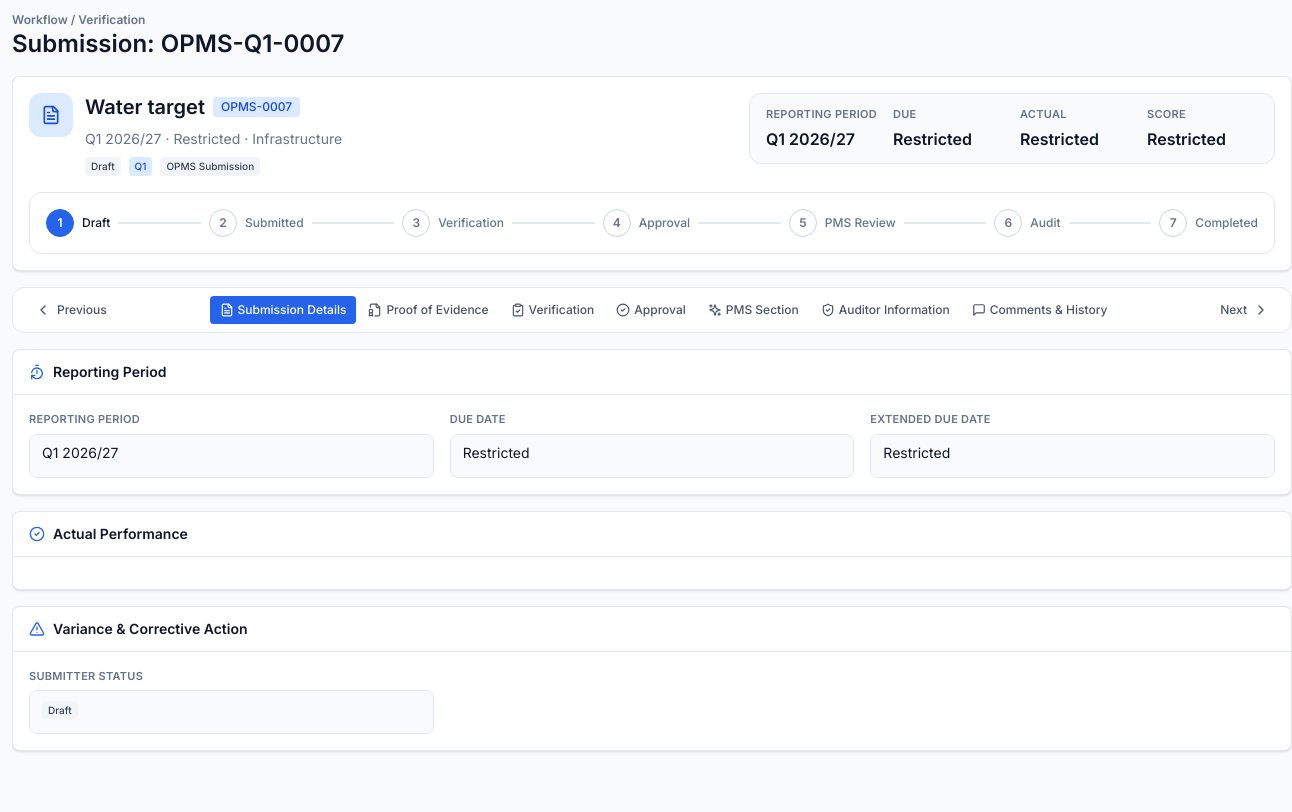
SubmissionWorkspace member security › shows POE upload and rescan controls only with the exact upload action grant
The width and height of the screenshot is (1292, 812).
Later steps or results of the test are not shown.
Click the tab "Proof of Evidence": [428, 310] box [358,296,499,324]
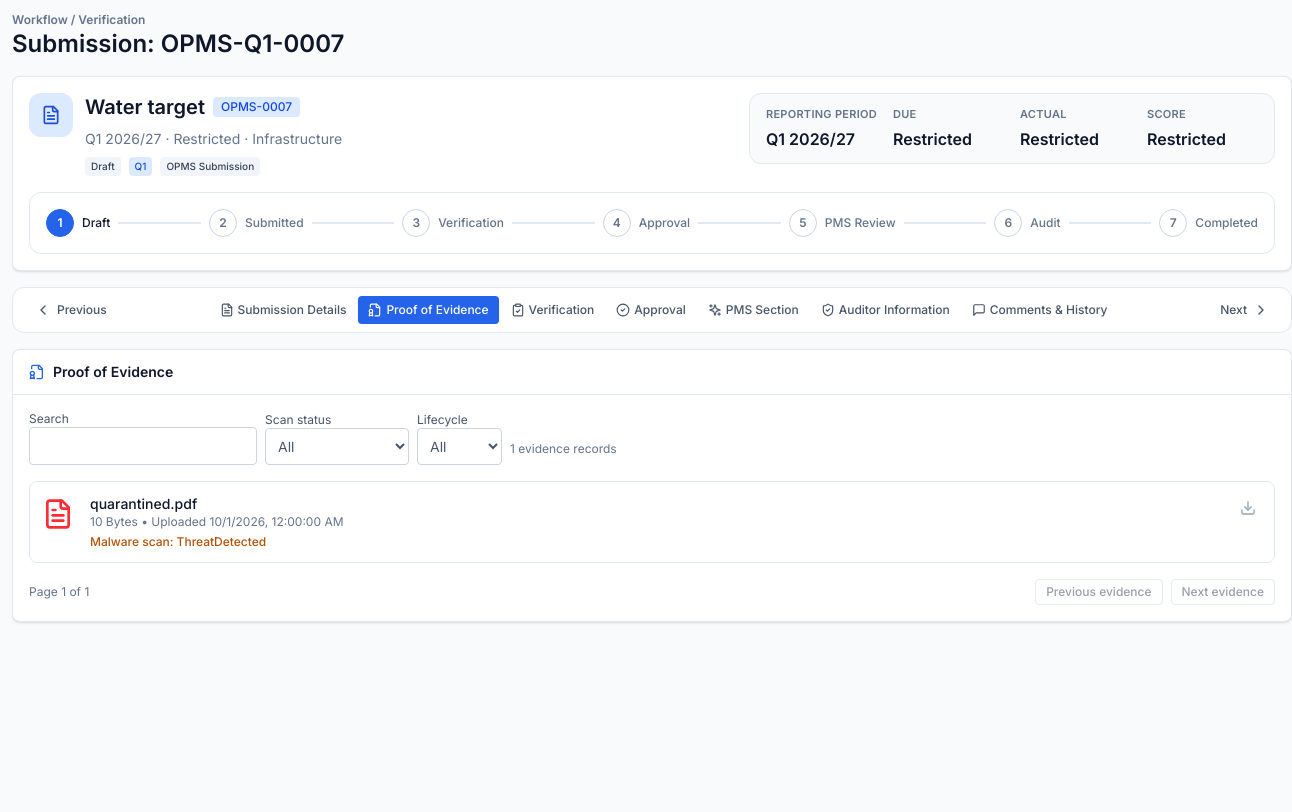
Expected: the text "quarantined.pdf" is shown, [90,495,197,512]
